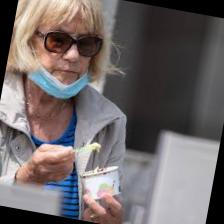mask_weared_incorrect: (33, 25, 105, 100)
